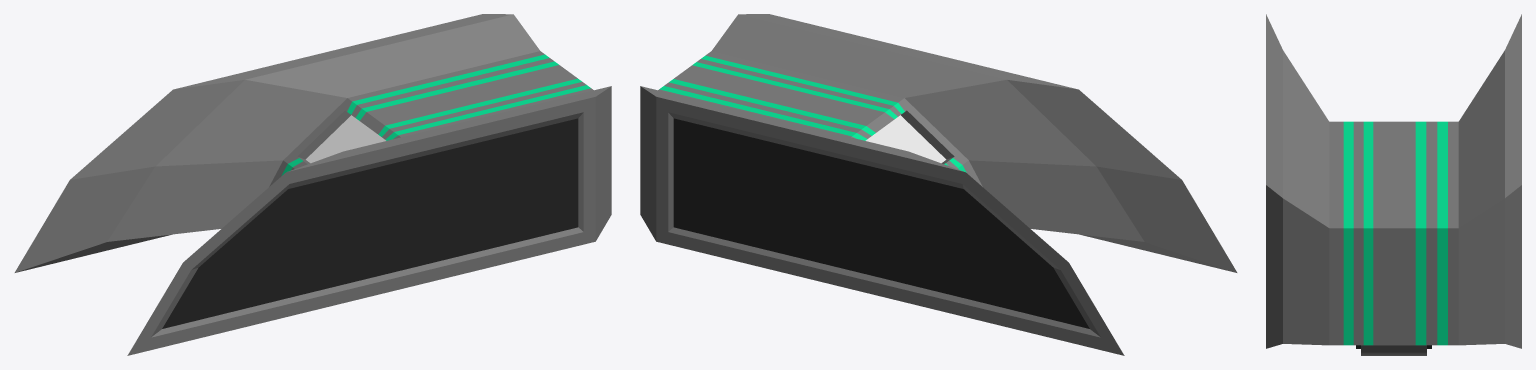
The model's file is Vezdehot.fbx.
3 renders of one model, left to right at view 1: azimuth 30°, elevation 25°; view 2: azimuth 150°, elevation 25°; view 3: azimuth 270°, elevation 25°, orthographic. The views are drawn at different scales.
Visible parts, largest first — view 1: Cube; view 2: Cube; view 3: Cube, Cylinder.003.
Boxes of the visible parts, x1,y1,x2,y2 form: Cube: (14,14,611,355); Cube: (640,14,1237,355); Cube: (1266,14,1521,348); Cylinder.003: (1356,345,1431,355).
Size of the model in its own units: 1007 by 296 by 396.
